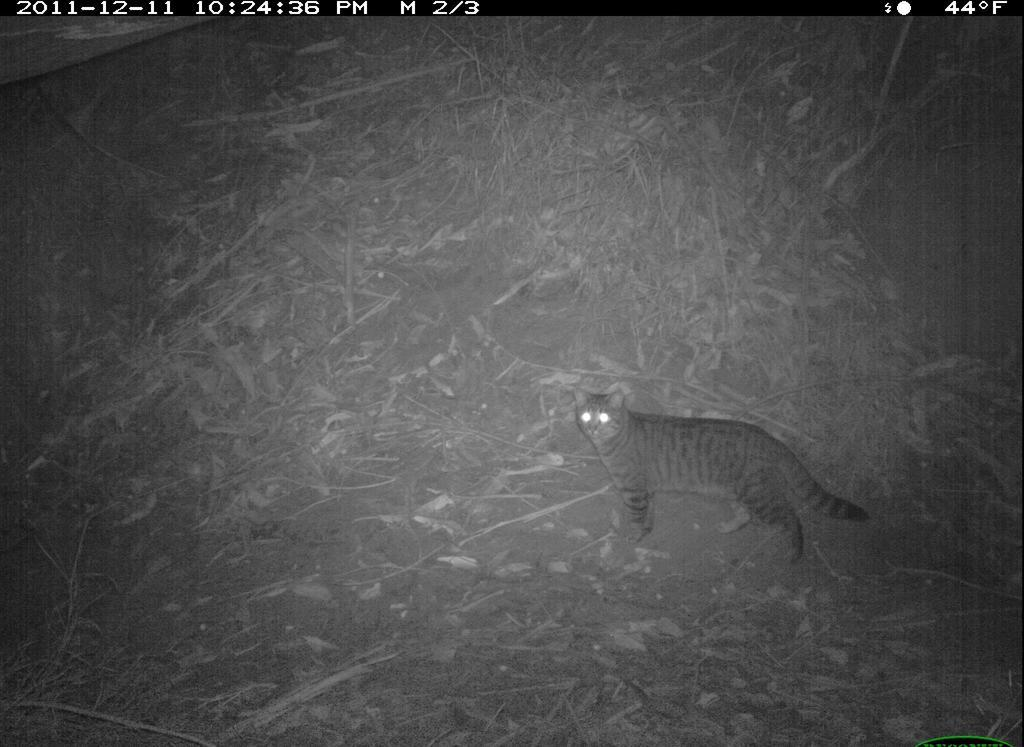cat: (568, 377, 876, 570)
